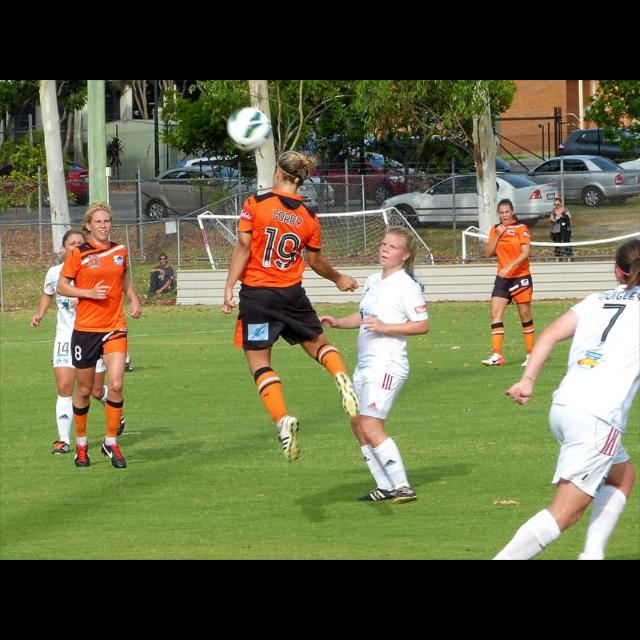Football: (228, 104, 270, 154)
